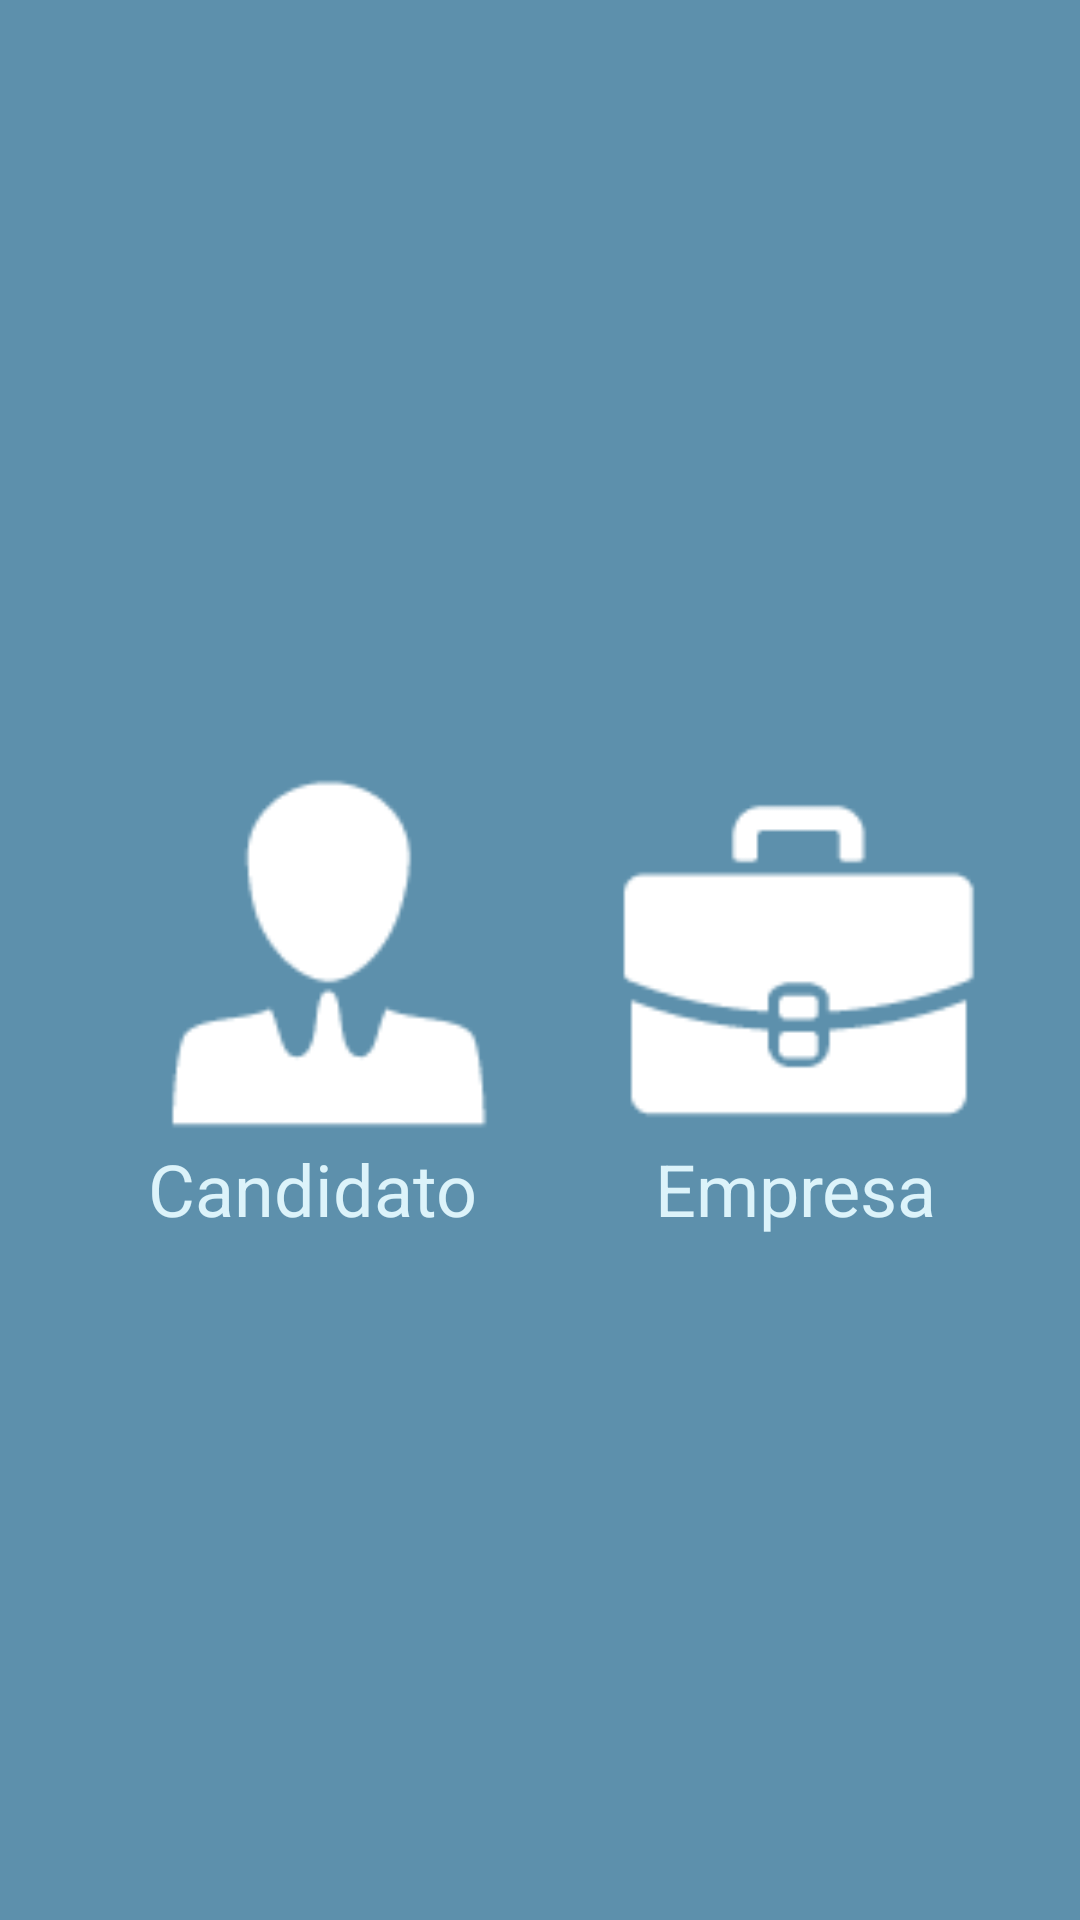

Icon click points for this 1080 x 1920 phone screenshot, format (x=x, y=y):
blancomaleta: (x=798, y=960)
blancopersona: (x=329, y=953)
